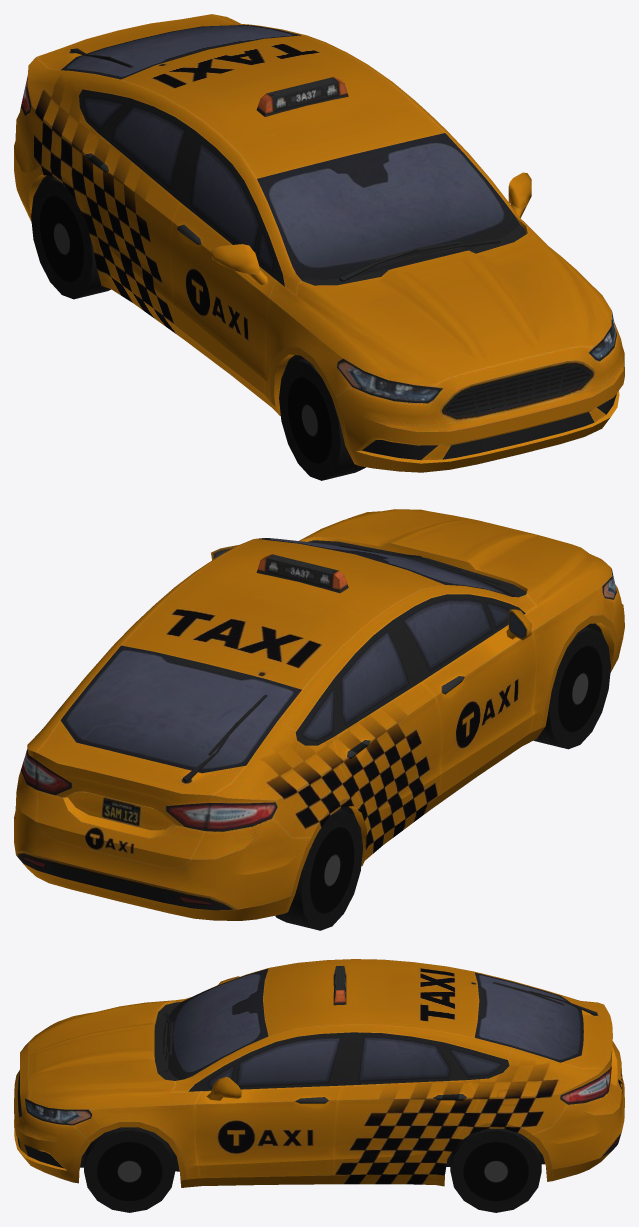
Rendered from taxi.glb.
3 views of the same model, one above another, from view 1: azimuth 30°, elevation 25°; view 2: azimuth 150°, elevation 25°; view 3: azimuth 270°, elevation 25° (orthographic). The views are drawn at different scales.
Visible parts, largest first — view 1: body, wheel_FR, wheel_RR; view 2: body, wheel_RR, wheel_FR; view 3: body, wheel_FL, wheel_RL.
Part boxes in pixels (x1,y1,x2,y2): body: (14,14,624,472); wheel_FR: (279,358,365,480); wheel_RR: (31,177,110,299); body: (14,509,624,920); wheel_RR: (275,809,362,930); wheel_FR: (533,627,610,749); body: (14,959,624,1187); wheel_FL: (84,1127,175,1212); wheel_RL: (450,1128,541,1212).
Size of the model in its own units: 2.15 by 1.64 by 4.87.
1 material, 1 textured.
